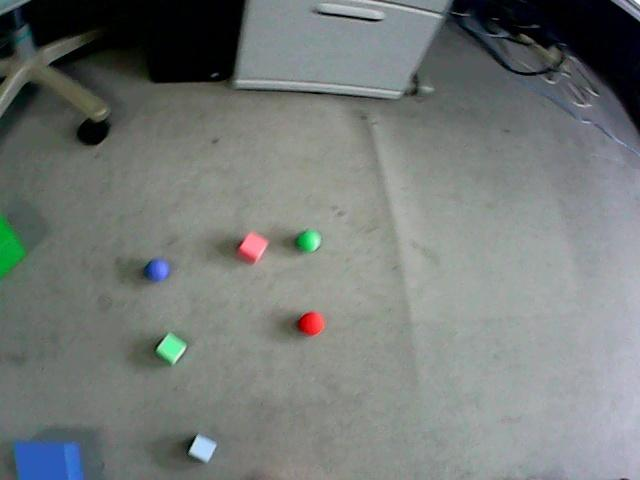blue_block: (14, 442, 83, 479), (188, 434, 216, 462), (65, 443, 83, 479)
red_block: (237, 232, 267, 263)
